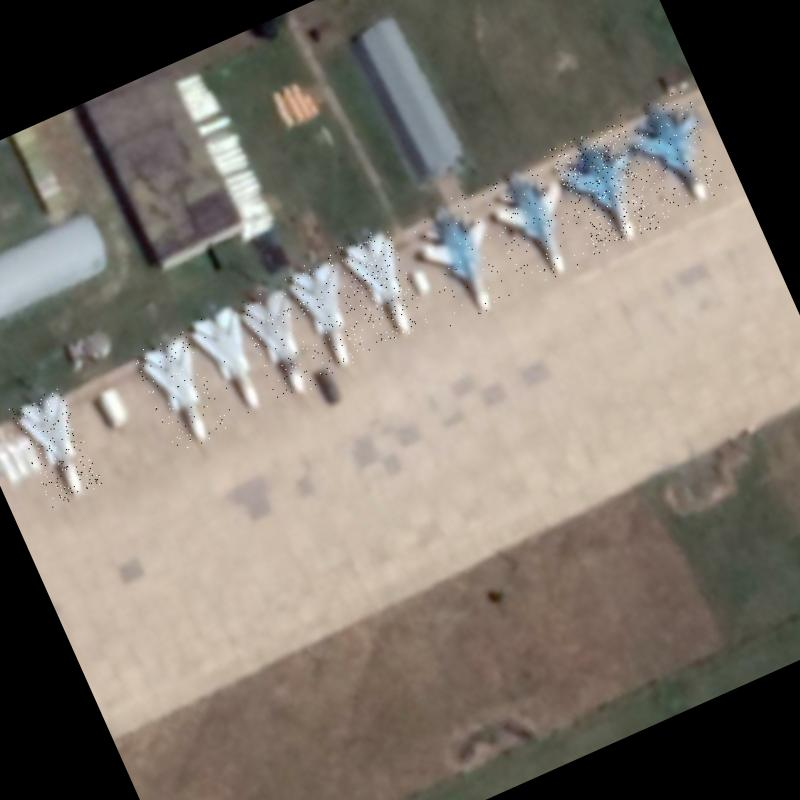A19: (477, 154, 595, 292), (403, 189, 518, 328), (548, 120, 663, 256), (616, 86, 731, 220)
A20: (131, 330, 230, 456), (334, 224, 430, 347), (8, 386, 104, 509), (183, 299, 278, 423), (282, 254, 376, 377), (235, 284, 328, 404)
